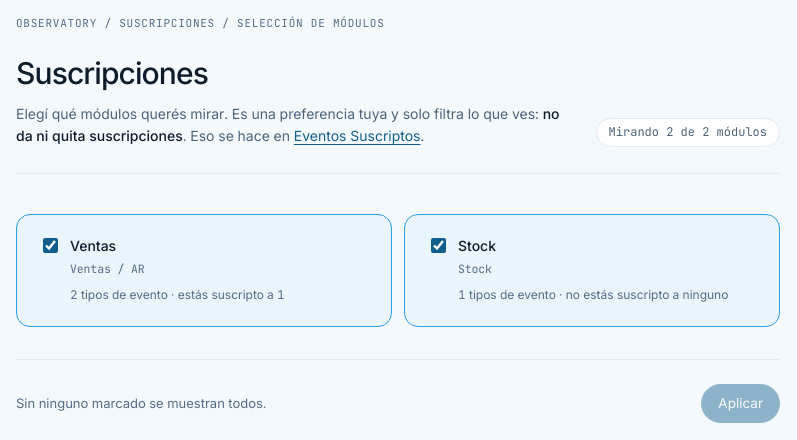
Scenario: T-140, T-143: recupera preferencias persistidas y compara conjuntos sin importar el orden
The image size is (797, 440).
expect the checkbox labelled "Stock Stock 1 tipos de evento · no estás suscripto a ninguno" is checked: met, box 431,238 -> 446,253
expect the text "Mirando 2 de 2 módulos" is shown: met, box 596,118 -> 780,147
Click the checkbox labelled "Ventas Ventas / AR 2 tipos de evento · estás suscripto a 1".
click(50, 246)  # box 43,238 -> 58,253
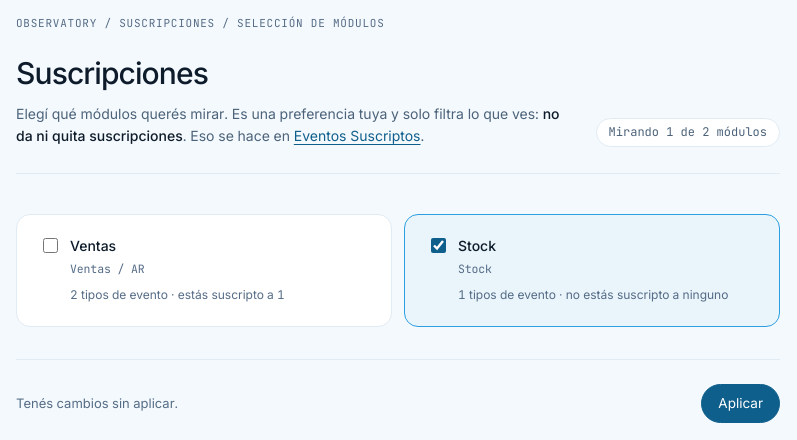
expect the button "Aplicar" is enabled: met, box 701,384 -> 780,423
Click the checkbox labelled "Ventas Ventas / AR 2 tipos de evento · estás suscripto a 1".
click(50, 246)  # box 43,238 -> 58,253
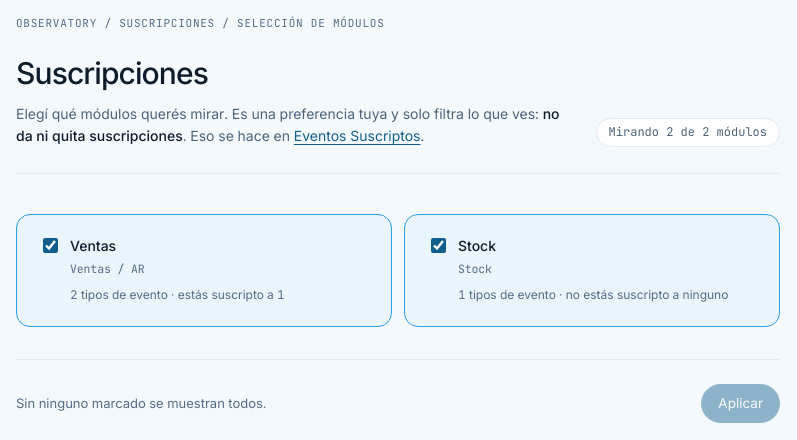
expect the button "Aplicar" is disabled: met, box 701,384 -> 780,423
